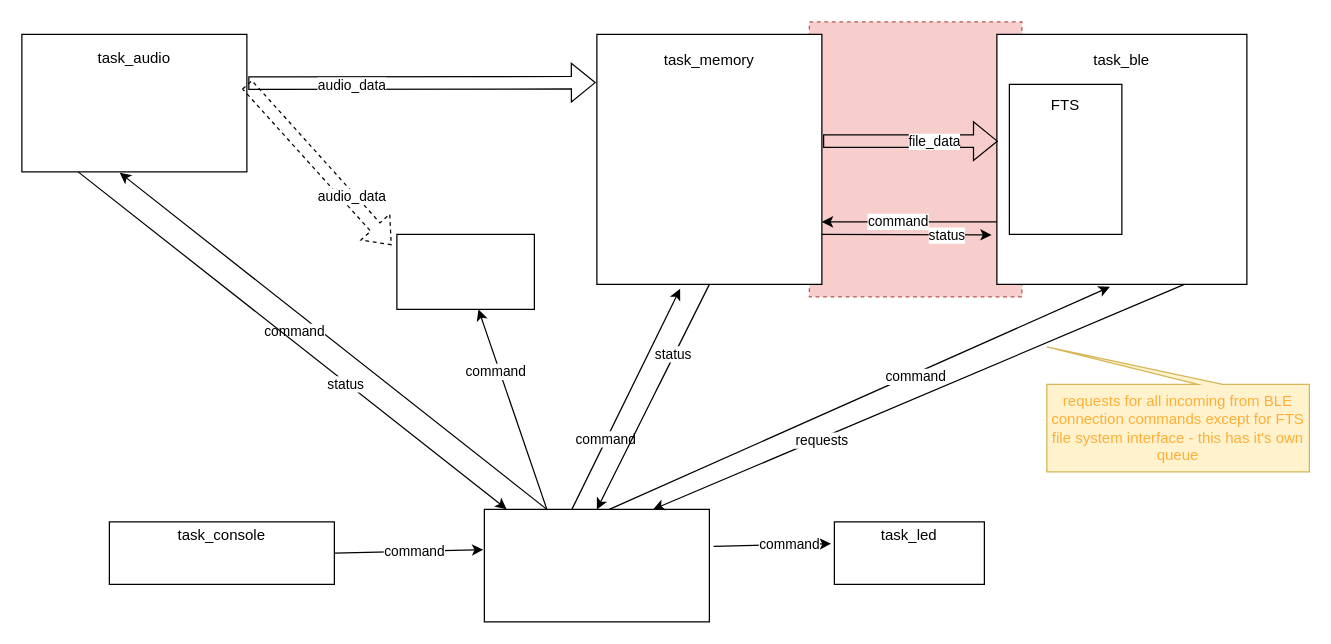
Image size: 1331x644. Some labels were removed from this diagram. Here are the shapes that lost their labels. From the top down, the centre of each, then its label:
At point 915,159: "requires permission from task_state".
At point 465,271: "task_audio_tester".
At point 596,565: "task_state".
